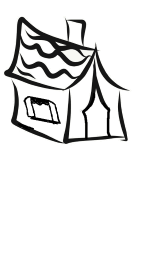chimney: (63, 14, 86, 49)
door: (80, 74, 114, 143)
open_window: (24, 96, 60, 125)
roof: (4, 16, 128, 92)
wall: (8, 72, 74, 144)
